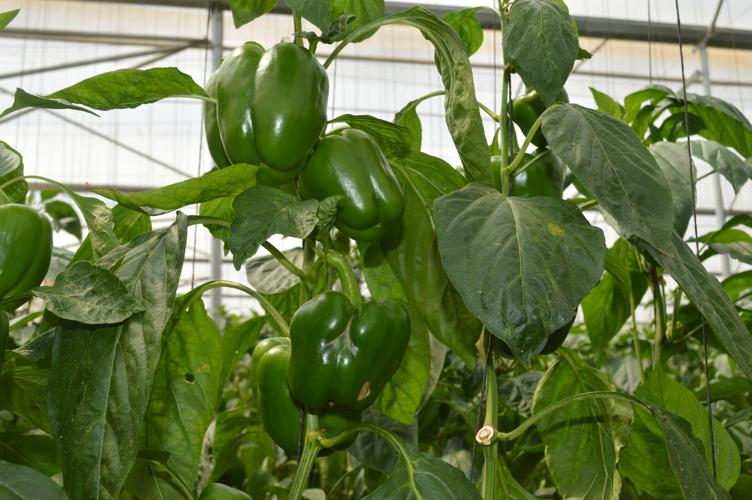BellPepper: (202, 41, 332, 186), (280, 294, 411, 414), (245, 337, 360, 453), (304, 128, 402, 243), (503, 88, 567, 147)
